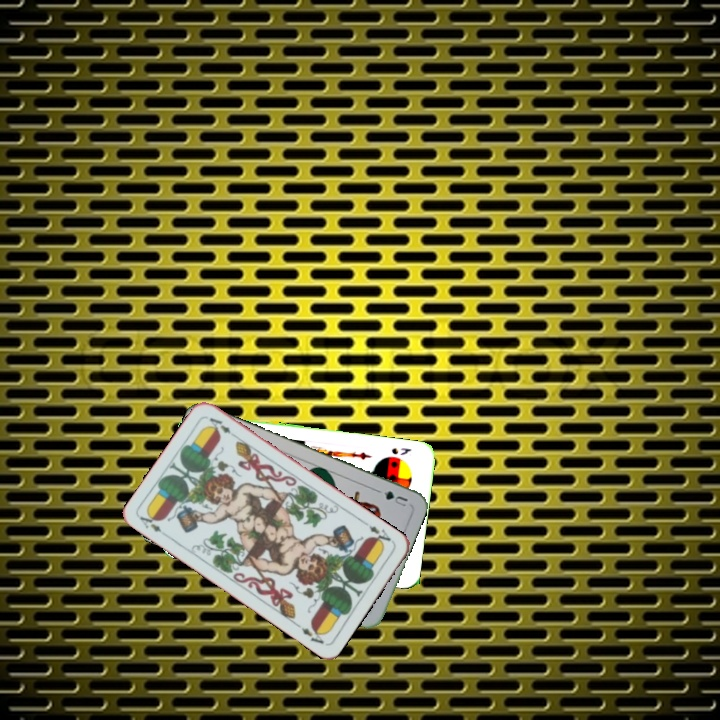EA: (360, 519, 396, 548), (136, 509, 164, 535)
GU: (380, 487, 410, 509)
SK: (388, 444, 414, 458)
